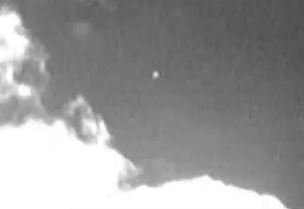Target: (153, 72, 158, 78)
